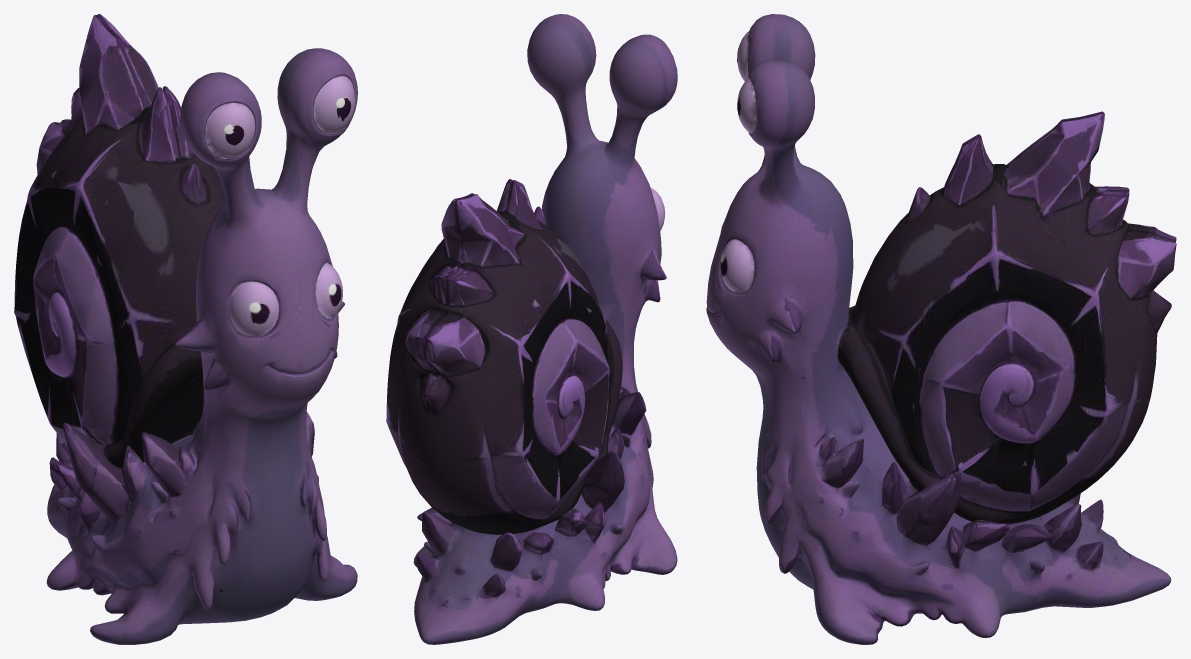
3 renders of one model, left to right at view 1: azimuth 30°, elevation 25°; view 2: azimuth 150°, elevation 25°; view 3: azimuth 270°, elevation 25°, orthographic. The views are drawn at different scales.
Parts seen in each view (by area): view 1: Mesh_0; view 2: Mesh_0; view 3: Mesh_0.
Part boxes in pixels (x1,y1,x2,y2): Mesh_0: [14, 14, 357, 644]; Mesh_0: [386, 14, 677, 644]; Mesh_0: [706, 14, 1176, 644].
Size of the model in its own units: 0.8931 by 1.9 by 1.48.
Materials: 1 (1 with a texture image).
